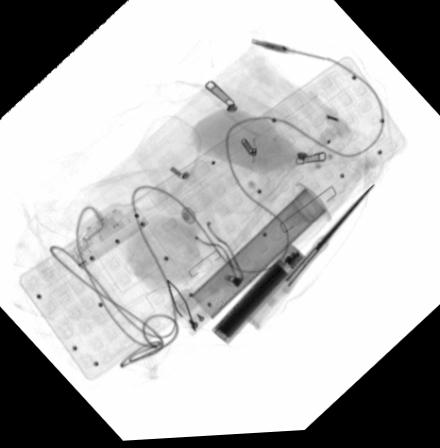Powerbank: (210, 244, 309, 350)
Scissors: (246, 181, 382, 336)
